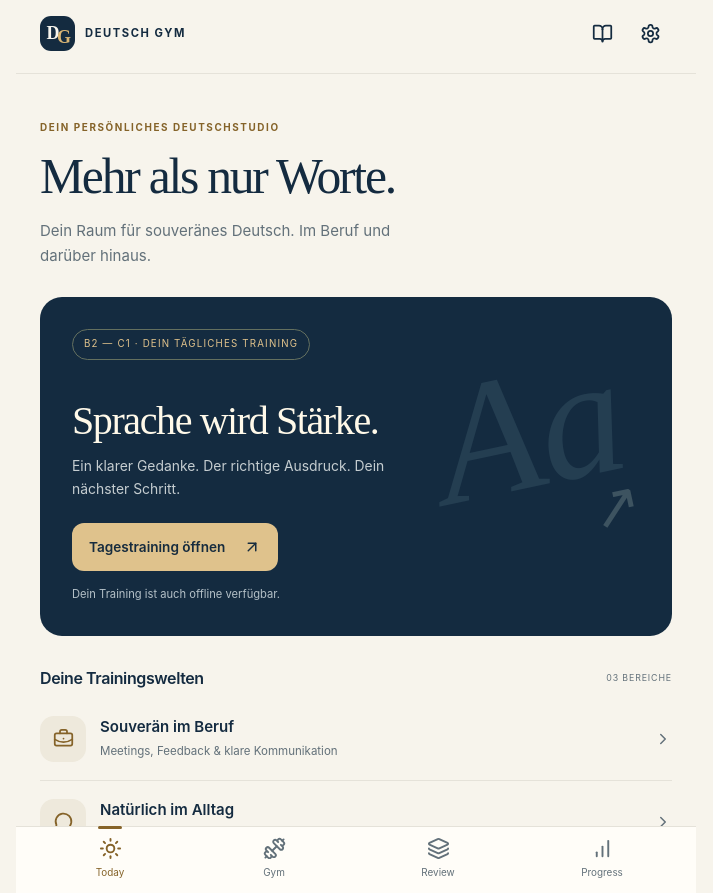
it: navigates through all four tabs with honest empty states
The image size is (713, 893).
Expected: the heading "Mehr als nur Worte." is shown, [40,149,395,204]
Click the link "Gym": click(274, 858) [262,837,286,878]
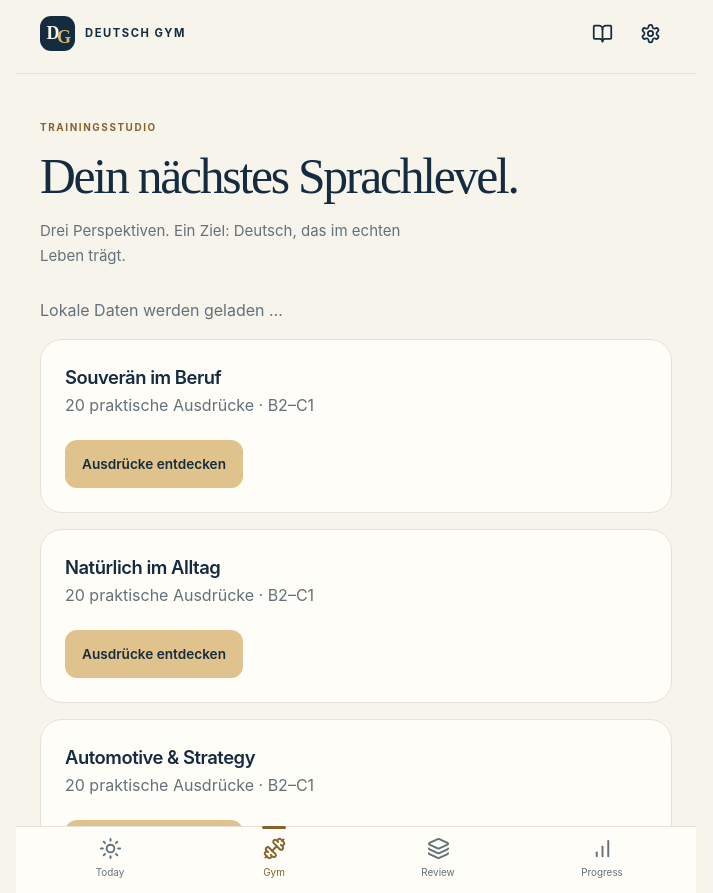
Expected: the heading "Dein nächstes Sprachlevel." is shown, [40,149,518,204]
Click the link "Review": click(438, 858) [421,837,455,878]
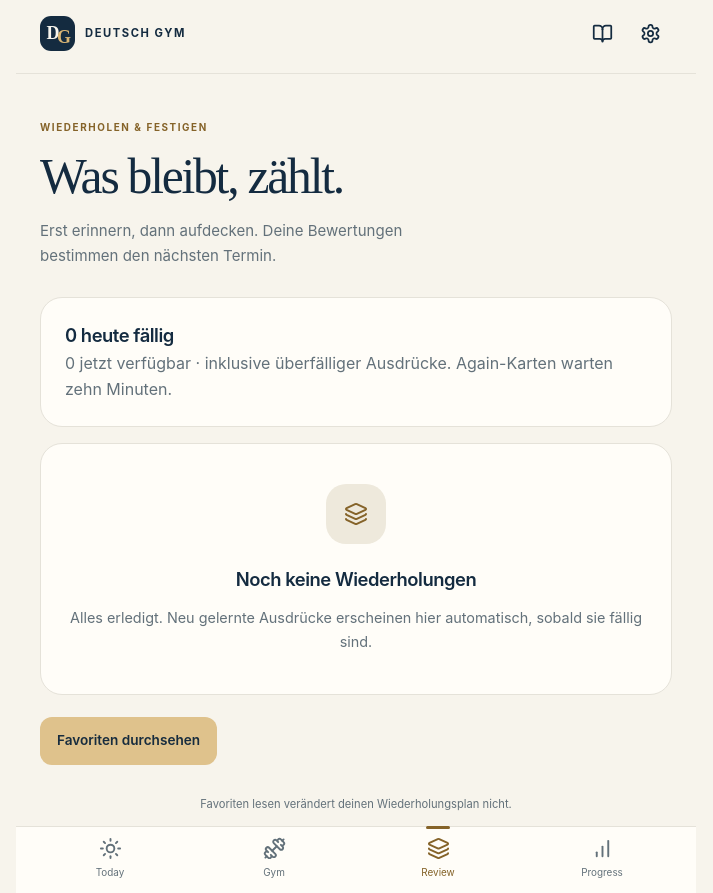
Expected: the heading "Noch keine Wiederholungen" is shown, [236,568,476,590]
Click the link "Progress": click(602, 858) [581,837,623,878]
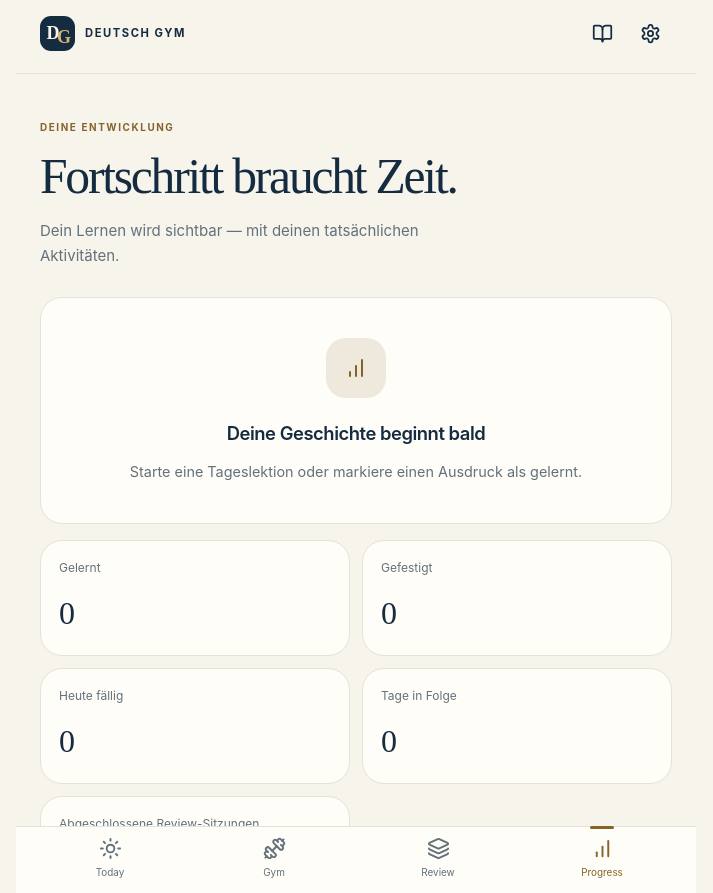
Expected: the heading "Deine Geschichte beginnt bald" is shown, [227,422,485,444]
